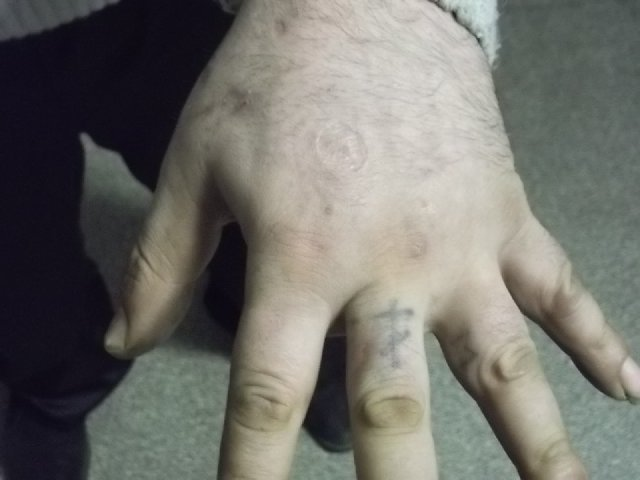tatu9_krest: (360, 292, 425, 375)
